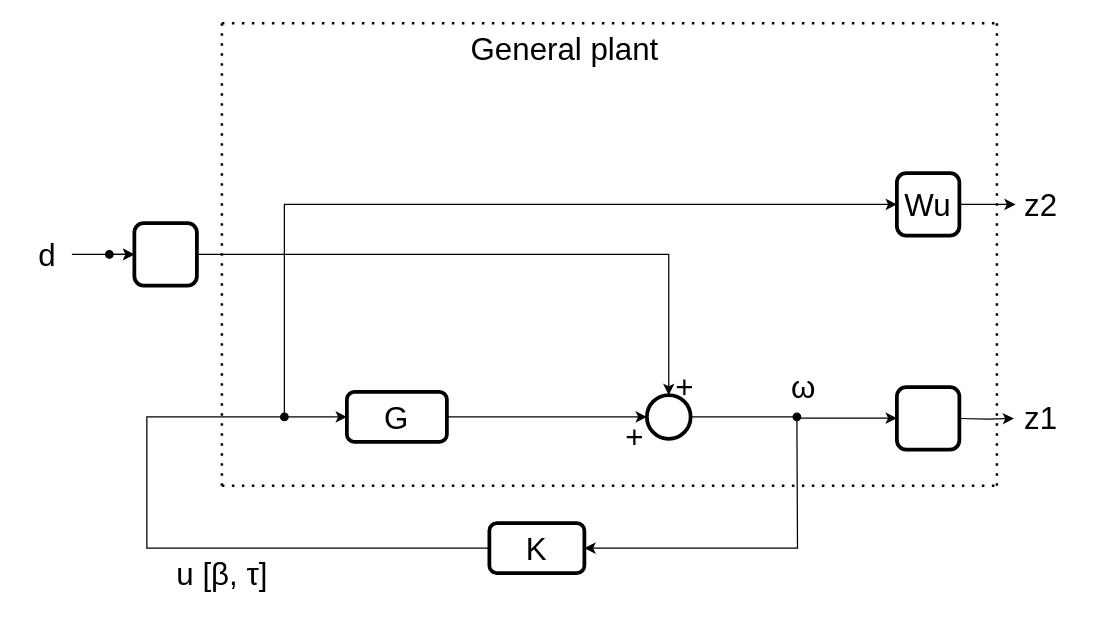
The diagram is 1093 pixels wide and 619 high, and some of its shapes have lost their labels. The shapes that lost their labels are listed below. From the top down, each one's centre as x and y in pixels, then its label:
At pixel 165 254: "Gd".
At pixel 927 418: "Wp".
